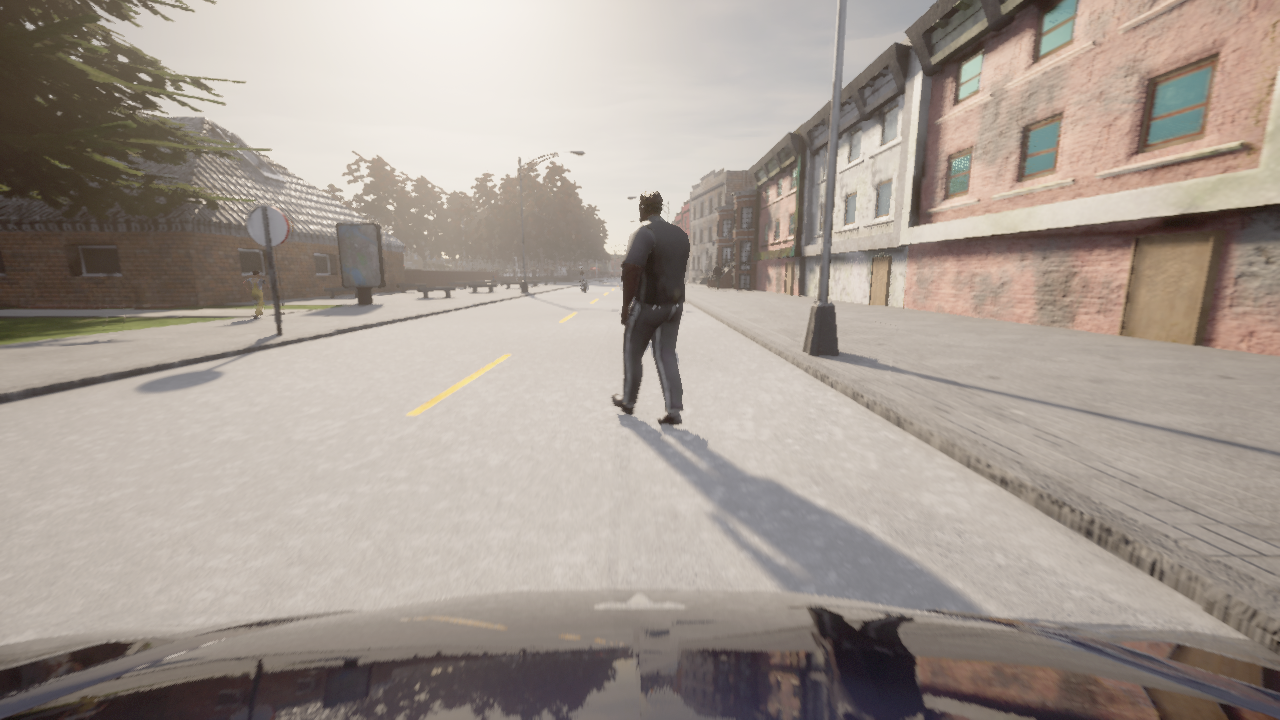cyclist: (0, 588, 1279, 719), (577, 273, 588, 292)
pedestrian: (611, 189, 690, 426), (242, 269, 269, 319), (714, 263, 722, 289), (491, 272, 495, 283)
